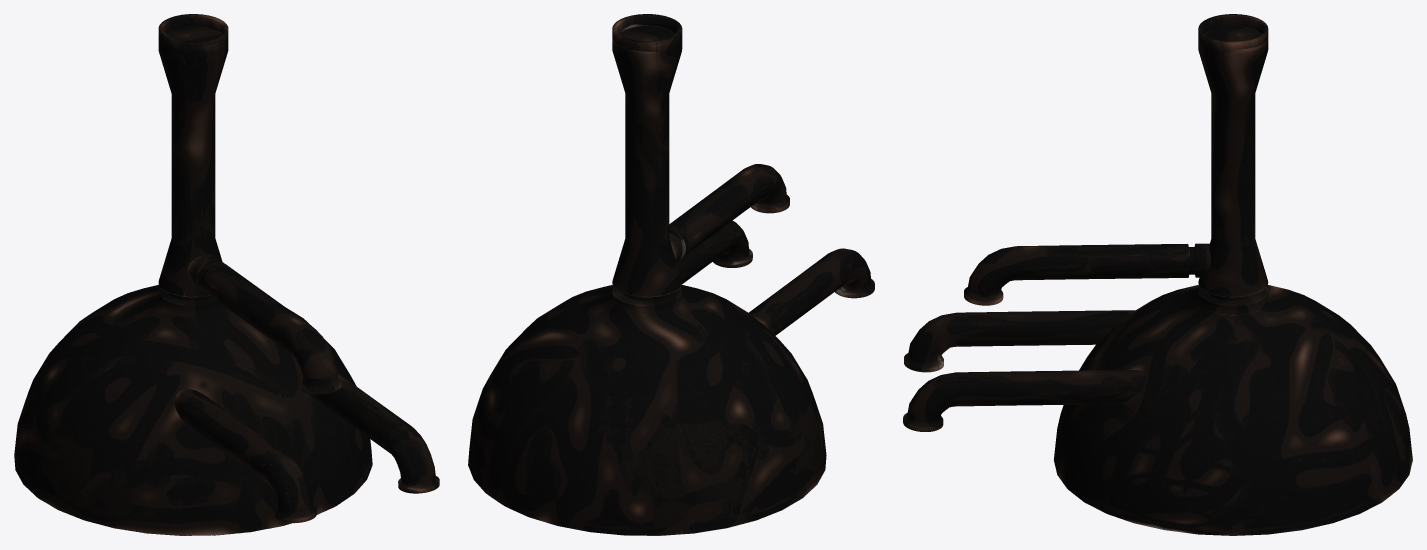
Rendered from kadz.fbx.
3 views of the same model, side by side, from view 1: azimuth 30°, elevation 25°; view 2: azimuth 150°, elevation 25°; view 3: azimuth 270°, elevation 25° (orthographic).
Parts seen in each view (by area): view 1: Sphere; view 2: Sphere; view 3: Sphere.
Part boxes in pixels (box(x1,y1,x2,y2)): Sphere: box(14, 14, 439, 535); Sphere: box(468, 14, 874, 535); Sphere: box(903, 14, 1412, 535).
Bounding box in the file's own units: 1308 × 1734 × 1857.
